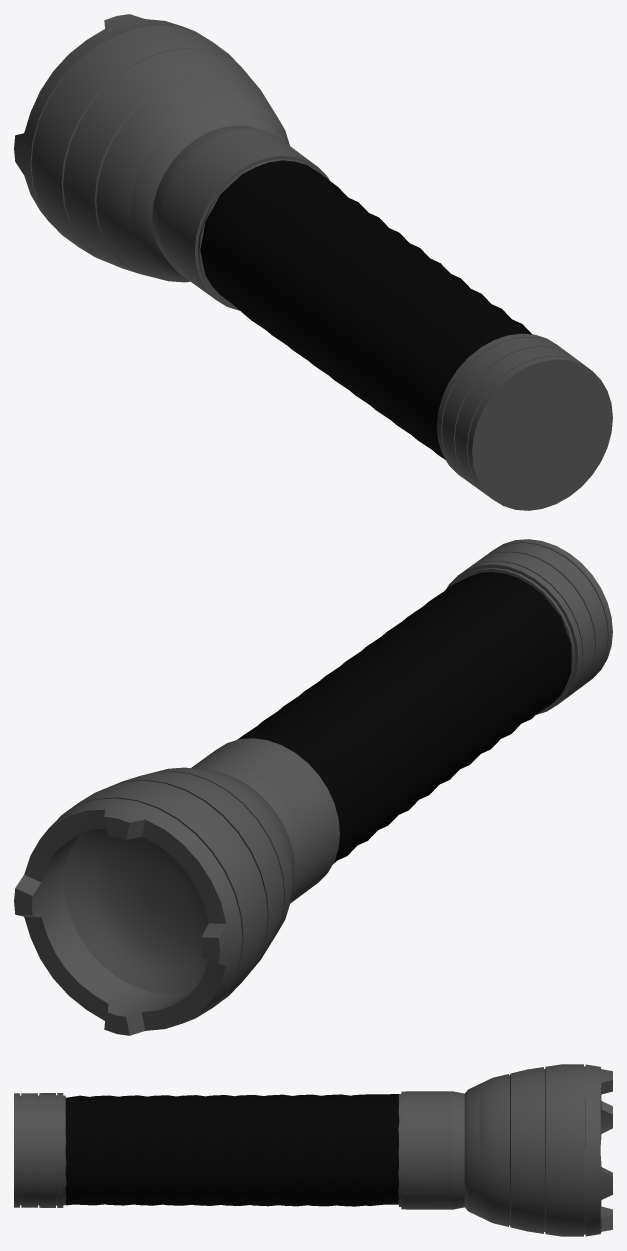
File: Flashlight.fbx
3 views of the same model, one above another, from view 1: azimuth 30°, elevation 25°; view 2: azimuth 150°, elevation 25°; view 3: azimuth 270°, elevation 25° (orthographic). The views are drawn at different scales.
Visible parts, largest first — view 1: flashLight; view 2: flashLight; view 3: flashLight.
Part boxes in pixels (left/top/right/bottom): flashLight: left=14, top=14, right=612, bottom=510; flashLight: left=14, top=539, right=612, bottom=1035; flashLight: left=14, top=1064, right=612, bottom=1236.
Bounding box in the file's own units: 301 × 301 × 1046.
